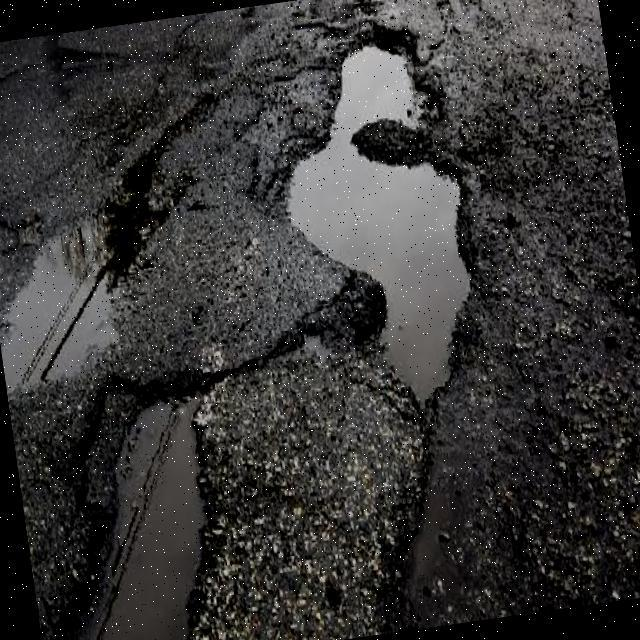Pothole: (269, 23, 472, 421), (57, 368, 232, 640)
